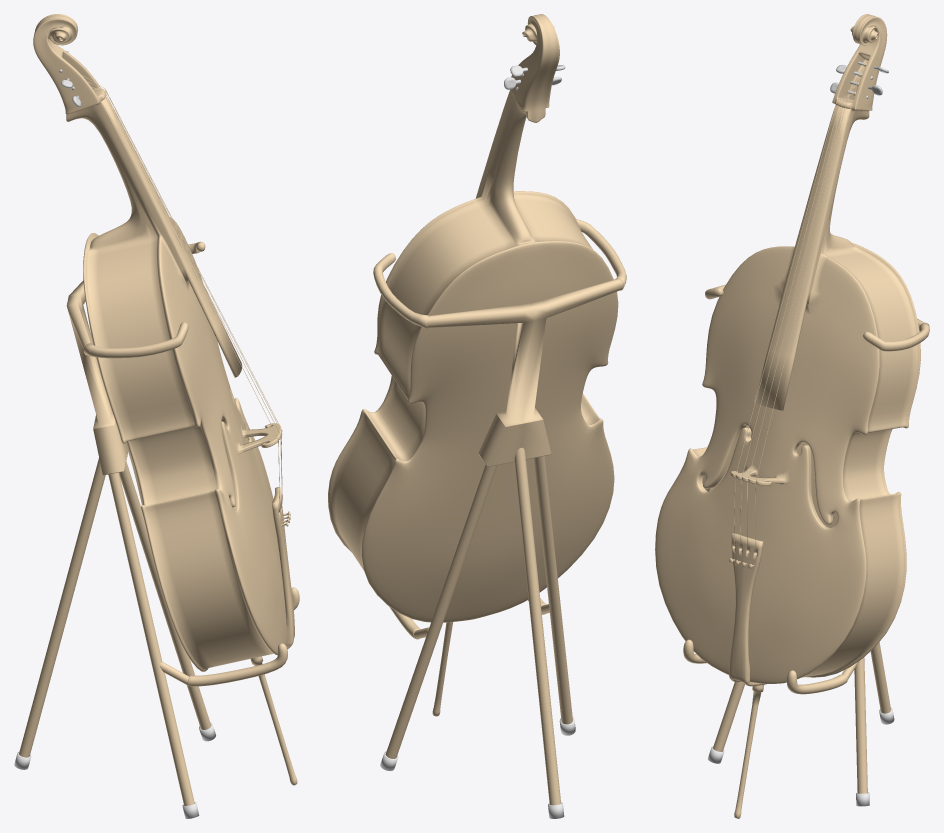
The model's file is cello.fbx.
3 renders of one model, left to right at view 1: azimuth 30°, elevation 25°; view 2: azimuth 150°, elevation 25°; view 3: azimuth 270°, elevation 25°, orthographic. The views are drawn at different scales.
Parts seen in each view (by area): view 1: cello; view 2: cello; view 3: cello.
Part boxes in pixels (box(x1,y1,x2,y2)): cello: box(14, 14, 299, 818); cello: box(328, 14, 626, 818); cello: box(655, 14, 929, 818).
Size of the model in its own units: 147 by 444 by 153.
